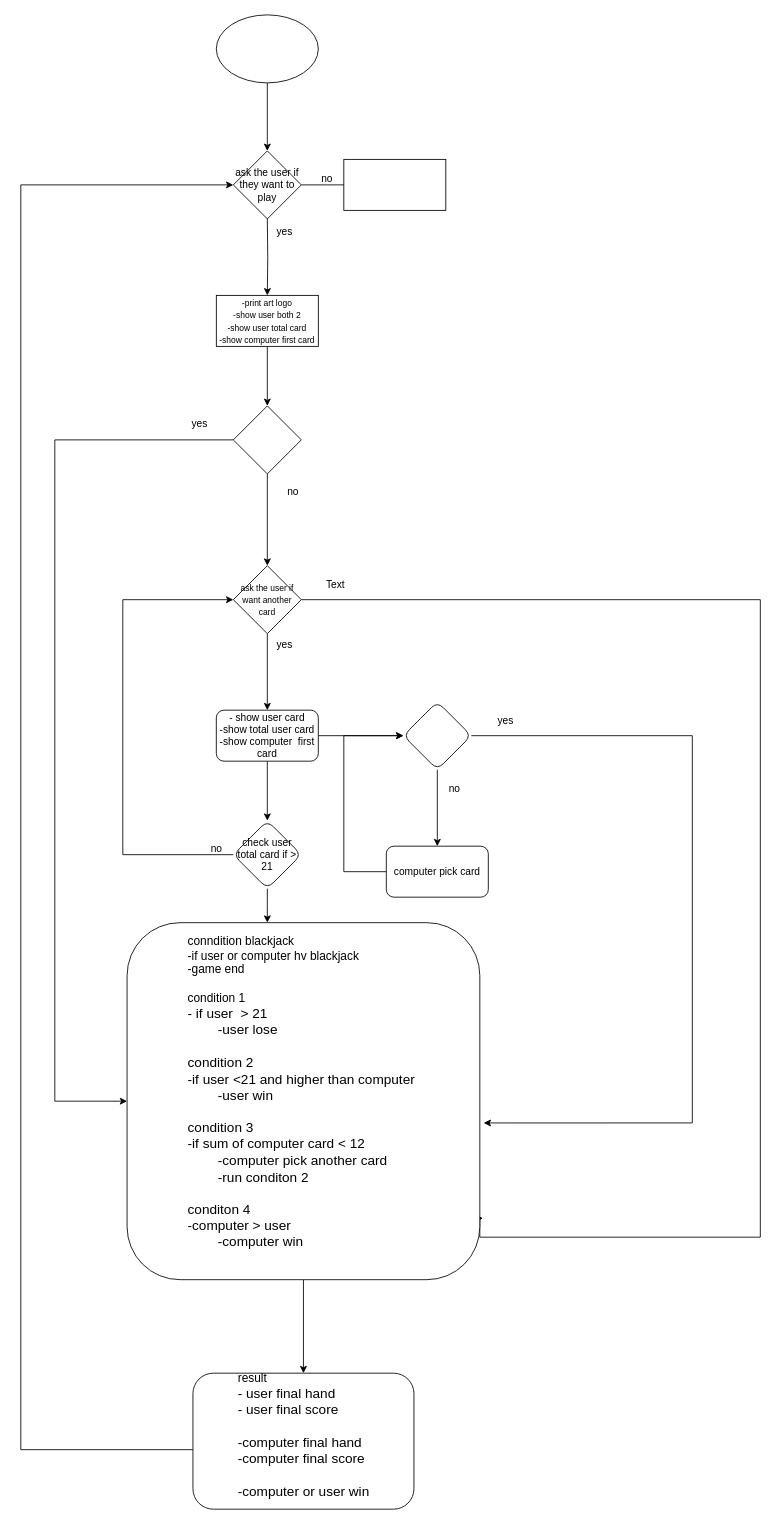
Image size: 782x1527. Some labels were removed from this diagram. The shapes that lost their labels are listed below. From the top down, each one's centre as x and y in pixels, then its label:
(x=266, y=48): program start
(x=394, y=184): program end
(x=266, y=439): check if user or computer hv black jack
(x=436, y=735): check computer score > 17
